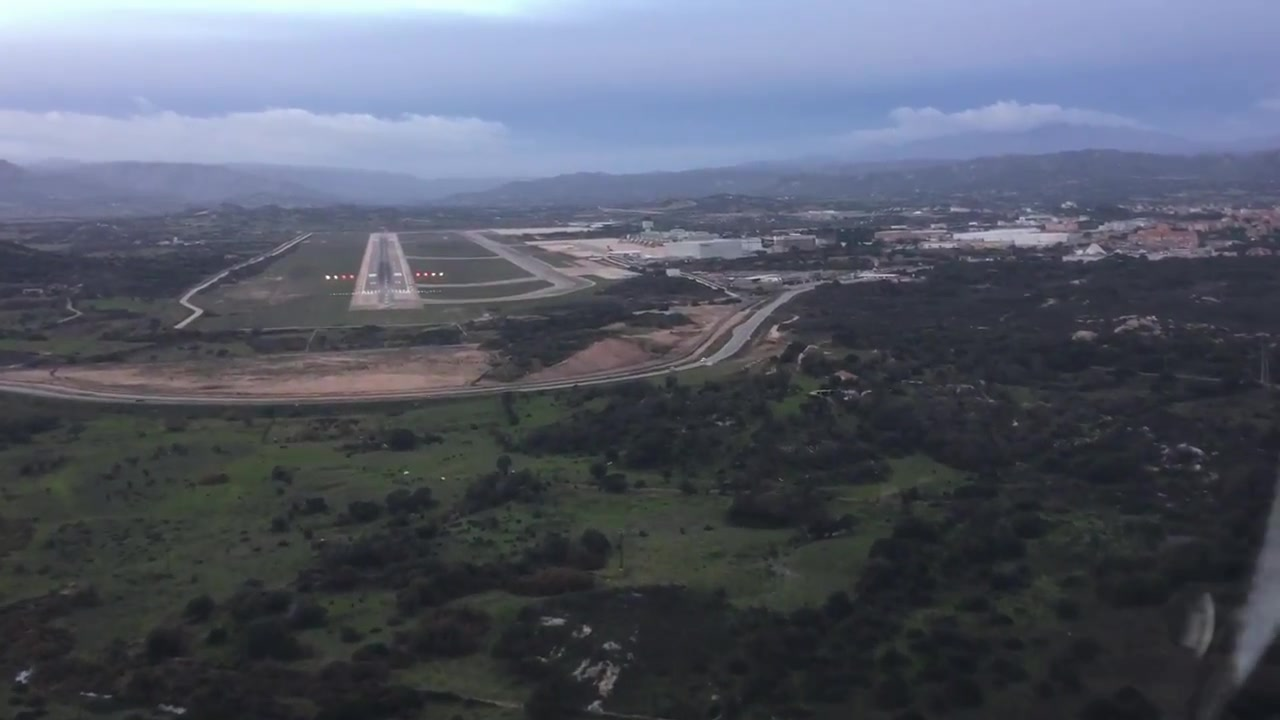entrance: (360, 288, 408, 295)
runway: (350, 233, 422, 310)
